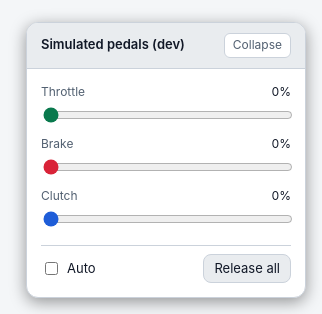
Test: SimPedalsPanel component › Release all button resets values to 0 and sends update
The image size is (322, 314).
Check: the text "Simulated pedals (dev)" is shown, box [41,35,185,55]
Set the slider labelled "Throttle" to "50" at (168, 114), box [43,106,293,122]
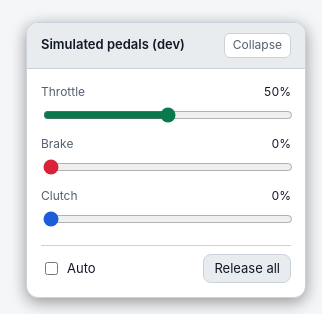
Set the slider labelled "Brake" to "70" at (215, 166), box [43,158,293,174]
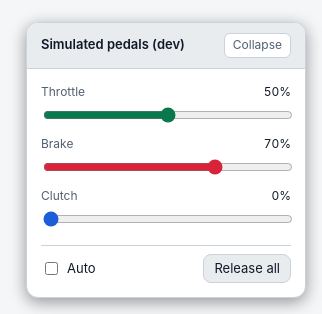
Set the slider labelled "Clutch" to "30" at (121, 218), box [43,210,293,226]
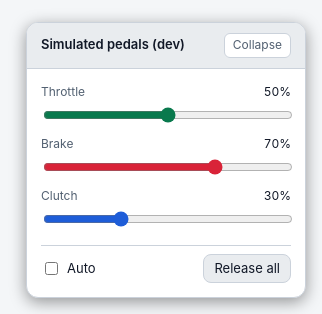
Click the button "Release all" at (247, 268), box [203,254,291,283]
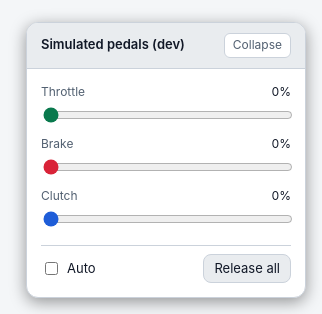
Check: the slider labelled "Throttle" holds "0", box [43,106,293,122]
Check: the slider labelled "Brake" holds "0", box [43,158,293,174]
Check: the slider labelled "Clutch" holds "0", box [43,210,293,226]
